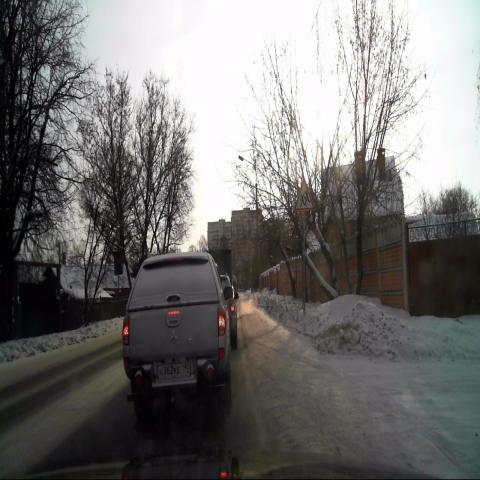1_23: (294, 179, 314, 211)
